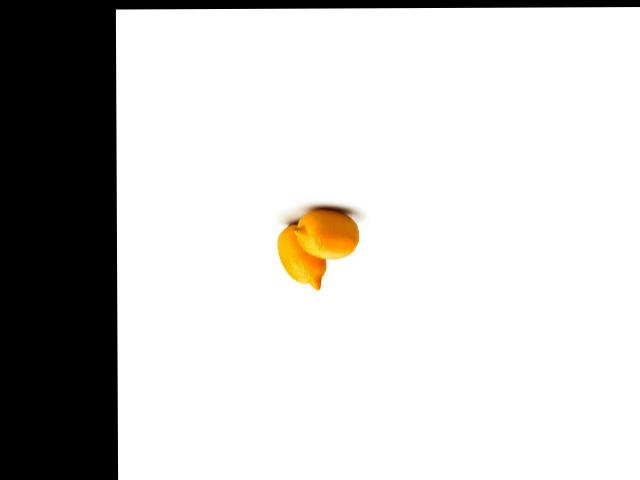lemon: (293, 201, 361, 265)
